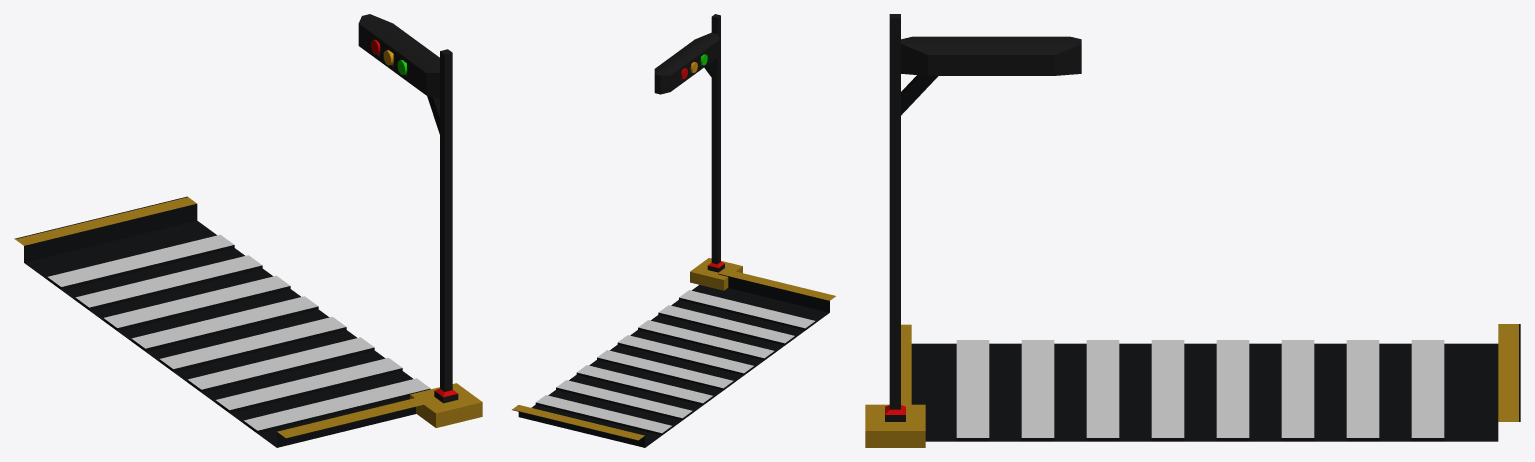
File: semaforo_horizontalobj.obj
3 renders of one model, left to right at view 1: azimuth 30°, elevation 25°; view 2: azimuth 150°, elevation 25°; view 3: azimuth 270°, elevation 25°, orthographic. The views are drawn at different scales.
Visible parts, largest first — view 1: Plane.008; view 2: Plane.008; view 3: Plane.008.
Boxes of the visible parts, bbox=[...] form: Plane.008: bbox=[14, 14, 482, 447]; Plane.008: bbox=[512, 14, 835, 447]; Plane.008: bbox=[865, 14, 1520, 447].
Bounding box in the file's own units: 2.33 × 4.33 × 6.13.
